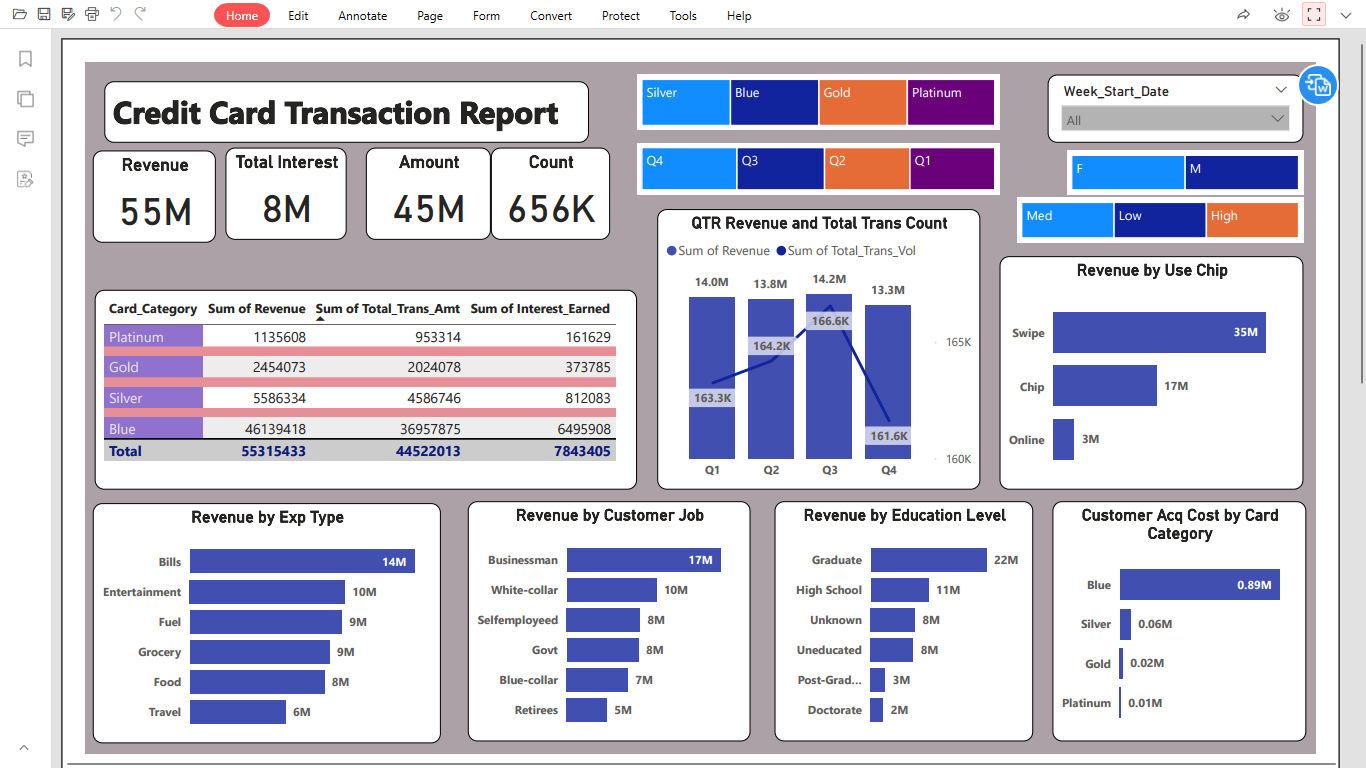

The dashboard page shown, as its layout file describes it:
{"tool":"powerbi","page":{"name":"Page 2","canvas":[1280,720],"ordinal":0},"visuals":[{"type":"textbox","box":[20.2,20.2,503.9,63.8],"z":0},{"type":"lineClusteredColumnComboChart","title":"QTR Revenue and Total Trans Count ","fields":{"Category":["credit_card.Qtr"],"Y":["Sum(credit_card.Revenue)"],"Y2":["Sum(credit_card.Total_Trans_Vol)"]},"box":[594.6,152.9,336,292.3],"z":1000},{"type":"barChart","title":"Revenue by Exp Type","fields":{"Y":["Sum(credit_card.Revenue)"],"Category":["credit_card.Exp Type"]},"box":[8.4,458.6,361.2,250.3],"z":2000},{"type":"barChart","title":"Revenue by Education Level","fields":{"Y":["Sum(credit_card.Revenue)"],"Category":["customer.Education_Level"]},"box":[717.3,456.9,268.8,250.3],"z":3000},{"type":"barChart","title":"Revenue by Customer  Job","fields":{"Y":["Sum(credit_card.Revenue)"],"Category":["customer.Customer_Job"]},"box":[398.1,456.9,294,250.3],"z":4000},{"type":"barChart","title":"Customer Acq Cost by Card Category","fields":{"Category":["credit_card.Card_Category"],"Y":["Sum(credit_card.Customer_Acq_Cost)"]},"box":[1006.2,456.9,263.7,250.3],"z":5000},{"type":"barChart","title":"Revenue by Use Chip","fields":{"Category":["credit_card.Use Chip"],"Y":["Sum(credit_card.Revenue)"]},"box":[950.8,201.6,315.8,243.6],"z":6000},{"type":"tableEx","fields":{"Values":["credit_card.Card_Category","Sum(credit_card.Revenue)","Sum(credit_card.Total_Trans_Amt)","credit_card.Interest_Earned"]},"box":[10.1,236.9,564.4,208.3],"z":7000},{"type":"card","title":"Revenue","fields":{"Values":["Sum(credit_card.Revenue)"]},"box":[8.4,92.4,127.7,95.7],"z":8000},{"type":"card","title":"Amount","fields":{"Values":["Sum(credit_card.Total_Trans_Amt)"]},"box":[292.3,89,129.3,95.7],"z":9000},{"type":"card","title":"Total Interest","fields":{"Values":["Sum(credit_card.Interest_Earned)"]},"box":[146.1,89,126,95.7],"z":10000},{"type":"card","title":"Count","fields":{"Values":["Sum(credit_card.Total_Trans_Vol)"]},"box":[421.6,89,124.3,95.7],"z":11000},{"type":"slicer","fields":{"Values":["credit_card.Week_Start_Date"]},"box":[1001.2,13.4,265.4,70.6],"z":12000},{"type":"treemap","fields":{"Group":["credit_card.Qtr"],"Values":["Avg(customer.Client_Num)"]},"box":[574.5,84,376.3,53.8],"z":13000},{"type":"treemap","fields":{"Group":["customer.Gender"],"Values":["Avg(customer.Client_Num)"]},"box":[1021.3,92.4,245.2,45.4],"z":14000},{"type":"treemap","fields":{"Values":["Avg(customer.Client_Num)"],"Group":["credit_card.Card_Category"]},"box":[574.5,13.4,376.3,57.1],"z":15000},{"type":"treemap","fields":{"Group":["customer.IncomeGroup"],"Values":["Avg(customer.Client_Num)"]},"box":[969.2,141.1,297.3,47],"z":16000}]}

Visuals, with their boxes on the page's 1280x720 design canvas (x1, y1, x2, y2). These are canvas units, not pixel positions in the 1366x768 screenshot, which may show the page scaled, cropped or inside an application window:
textbox: l=20, t=20, r=524, b=84
"QTR Revenue and Total Trans Count " lineClusteredColumnComboChart: l=595, t=153, r=931, b=445
"Revenue by Exp Type" barChart: l=8, t=459, r=370, b=709
"Revenue by Education Level" barChart: l=717, t=457, r=986, b=707
"Revenue by Customer  Job" barChart: l=398, t=457, r=692, b=707
"Customer Acq Cost by Card Category" barChart: l=1006, t=457, r=1270, b=707
"Revenue by Use Chip" barChart: l=951, t=202, r=1267, b=445
tableEx - credit_card.Card_Category x Sum(credit_card.Revenue): l=10, t=237, r=574, b=445
"Revenue" card: l=8, t=92, r=136, b=188
"Amount" card: l=292, t=89, r=422, b=185
"Total Interest" card: l=146, t=89, r=272, b=185
"Count" card: l=422, t=89, r=546, b=185
slicer - credit_card.Week_Start_Date: l=1001, t=13, r=1267, b=84
treemap - credit_card.Qtr x Avg(customer.Client_Num): l=574, t=84, r=951, b=138
treemap - customer.Gender x Avg(customer.Client_Num): l=1021, t=92, r=1266, b=138
treemap - Avg(customer.Client_Num) x credit_card.Card_Category: l=574, t=13, r=951, b=70
treemap - customer.IncomeGroup x Avg(customer.Client_Num): l=969, t=141, r=1266, b=188
